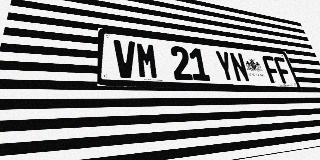1: (187, 47, 210, 81)
2: (170, 45, 193, 80)
F: (261, 55, 283, 84), (273, 57, 294, 84)
M: (136, 42, 159, 79)
N: (228, 52, 251, 82)
V: (114, 39, 137, 78)
Y: (214, 50, 236, 82)
